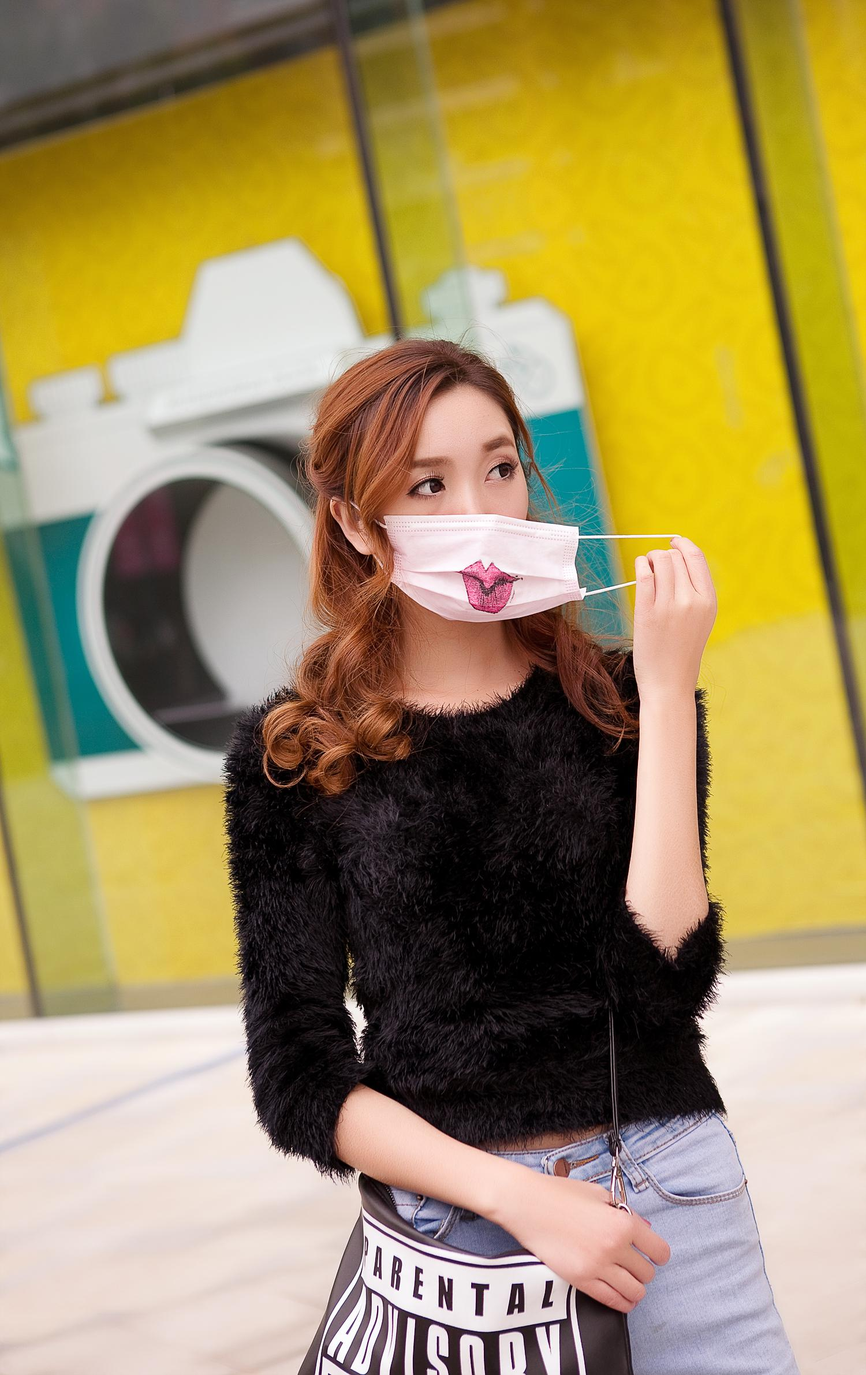WRONG: (353, 427, 546, 621)
